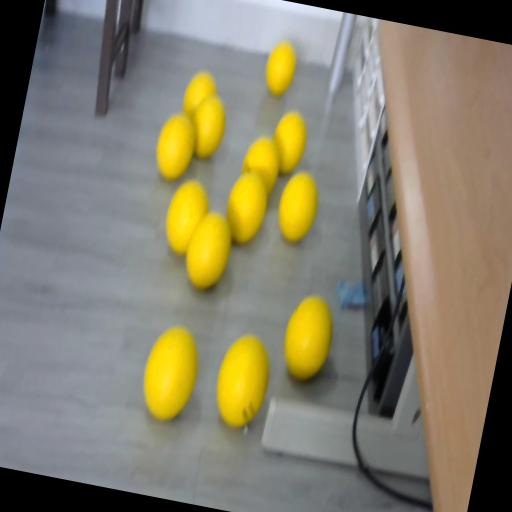FUEL: (136, 320, 206, 424), (208, 328, 278, 432), (276, 288, 340, 386), (159, 176, 214, 258), (220, 166, 274, 246), (272, 168, 323, 245), (151, 110, 200, 182), (186, 90, 232, 162), (267, 108, 312, 176), (262, 38, 300, 97)
